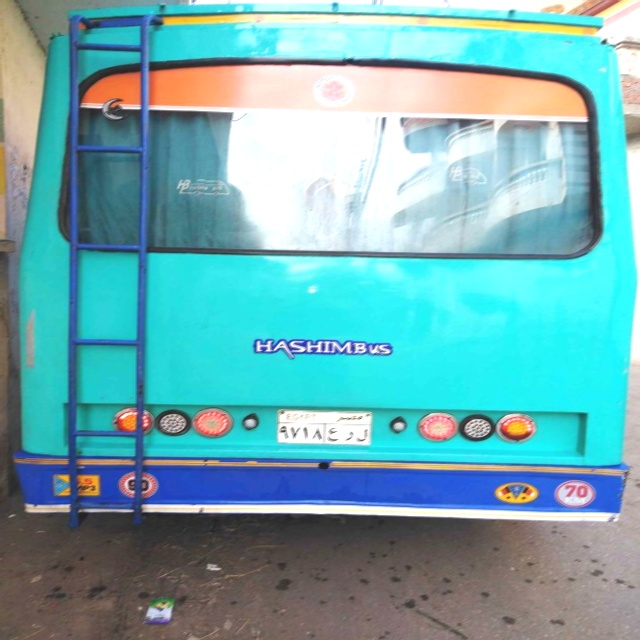License Plate: (276, 408, 374, 447)
